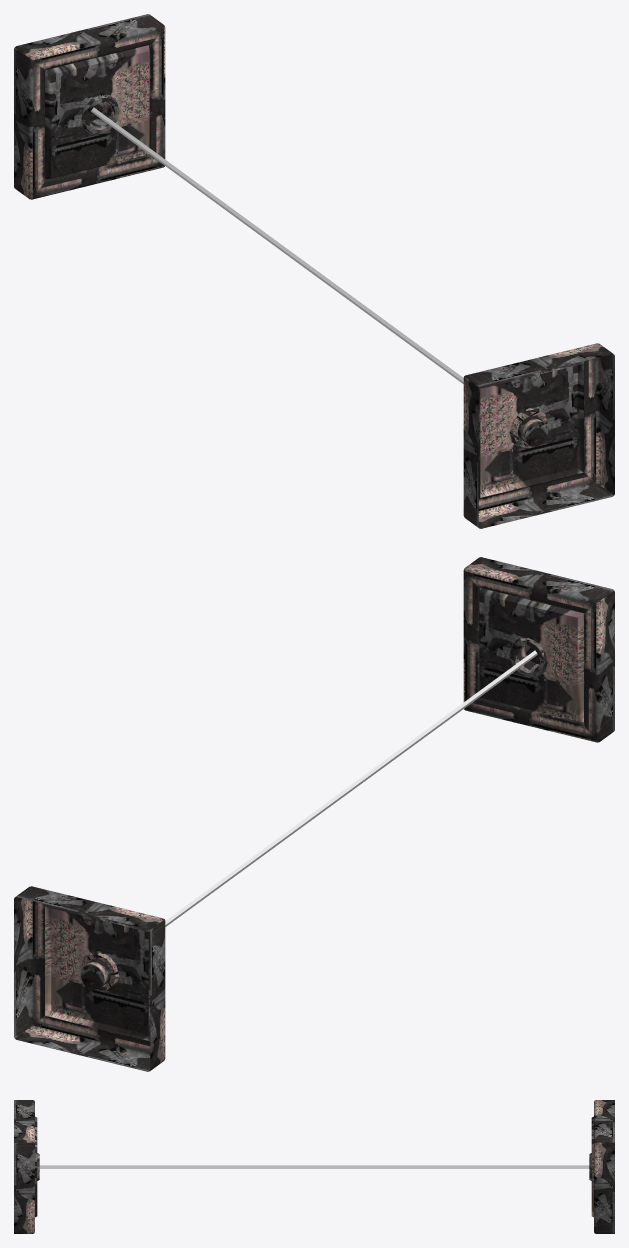
File: tripwire.fbx
3 renders of one model, top to bottom at view 1: azimuth 30°, elevation 25°; view 2: azimuth 150°, elevation 25°; view 3: azimuth 270°, elevation 25°, orthographic. The views are drawn at different scales.
Parts seen in each view (by area): view 1: SpearTrap_01.002_Trap01_0.002, SpearTrap_01.002_Trap01_0, SpearTrap_01.002_Trap01_0.001; view 2: SpearTrap_01.002_Trap01_0, SpearTrap_01.002_Trap01_0.002, SpearTrap_01.002_Trap01_0.001; view 3: SpearTrap_01.002_Trap01_0, SpearTrap_01.002_Trap01_0.002, SpearTrap_01.002_Trap01_0.001.
Boxes of the visible parts, left/top/right/bottom form: SpearTrap_01.002_Trap01_0.002: left=463, top=343, right=614, bottom=528; SpearTrap_01.002_Trap01_0: left=14, top=14, right=165, bottom=199; SpearTrap_01.002_Trap01_0.001: left=91, top=107, right=463, bottom=383; SpearTrap_01.002_Trap01_0: left=14, top=886, right=165, bottom=1071; SpearTrap_01.002_Trap01_0.002: left=463, top=557, right=614, bottom=742; SpearTrap_01.002_Trap01_0.001: left=165, top=650, right=537, bottom=926; SpearTrap_01.002_Trap01_0: left=589, top=1100, right=614, bottom=1233; SpearTrap_01.002_Trap01_0.002: left=14, top=1100, right=39, bottom=1233; SpearTrap_01.002_Trap01_0.001: left=39, top=1165, right=589, bottom=1168.
Bounding box in the file's own units: 36 × 36 × 212.
Materials: 2 (1 with a texture image).
